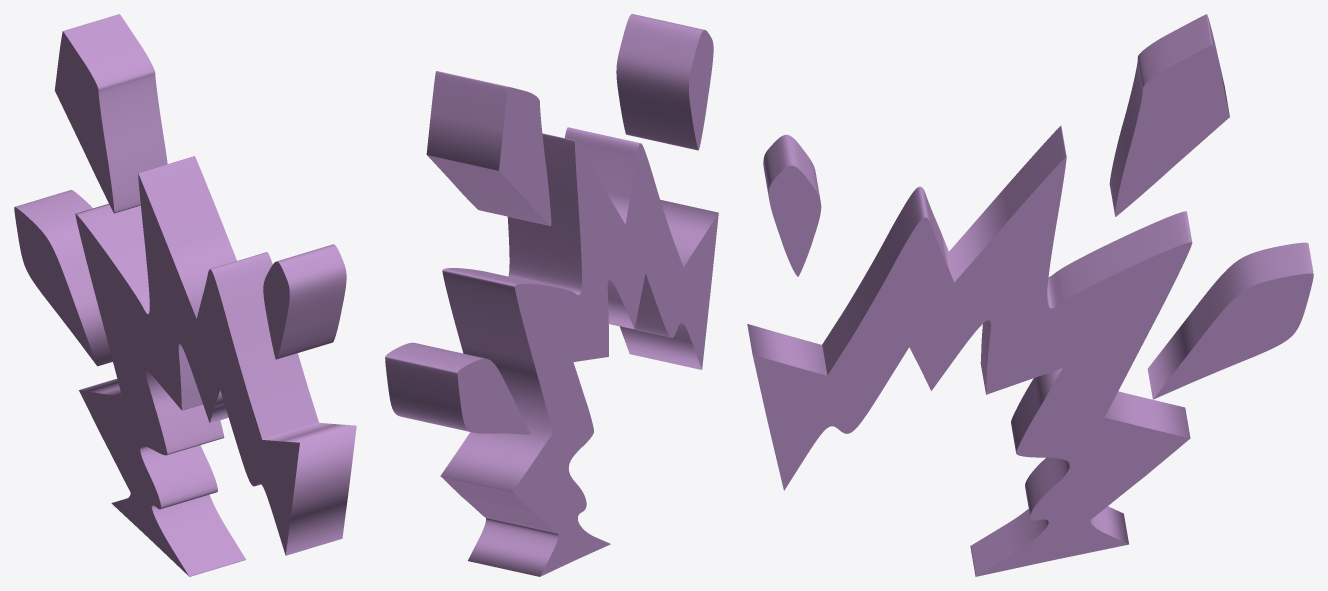
Rendered from Spreadshot.obj.
The picture shows the model from 3 angles, left to right: view 1: azimuth 30°, elevation 25°; view 2: azimuth 150°, elevation 25°; view 3: azimuth 270°, elevation 25°; orthographic projection. The views are drawn at different scales.
Parts seen in each view (by area): view 1: Curve.025; view 2: Curve.025; view 3: Curve.025.
Boxes of the visible parts, x1,y1,x2,y2 form: Curve.025: [14, 14, 356, 576]; Curve.025: [385, 14, 718, 576]; Curve.025: [747, 14, 1313, 576].
Size of the model in its own units: 0.5559 by 2.76 by 2.72.
